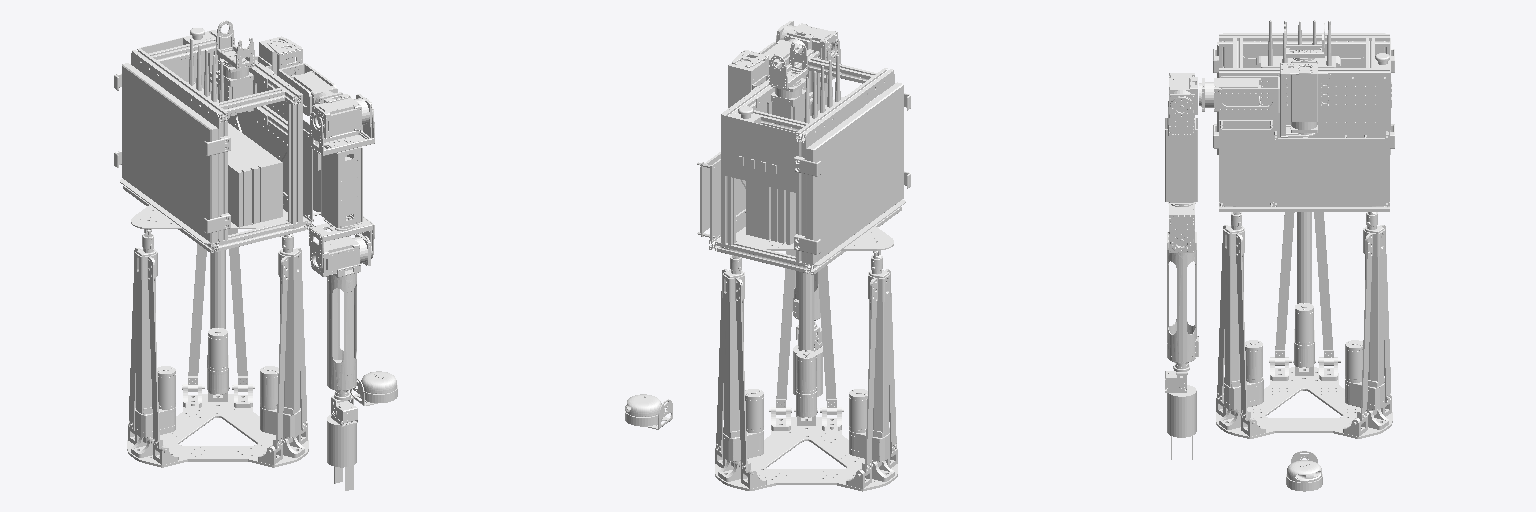
--- Facts derived from the render (not from the file) ---
The picture shows the robot from 3 angles, left to right: view 1: azimuth 30°, elevation 25°; view 2: azimuth 150°, elevation 25°; view 3: azimuth 270°, elevation 25°; orthographic projection.
Robot: hrvl_gbot — 26 links, 25 joints (12 revolute, 4 continuous, 2 prismatic, 7 fixed); root link base_footprint; default pose: all joints at 0 but 2 set to mid-range because 0 is outside their limits (gripper_joint = 0.021, sub_gripper_joint = 0.021).
Links seen in each view (by area): view 1: torso_link_y, waist_link, arm_lower_link_x, arm_shoulder_link_x, arm_mid_motor_link_z, arm_shoulder_link_y, tool_link, rotlidar_link, arm_shoulder_link_z, neck_link_z, wrist_pitch_link; view 2: torso_link_y, waist_link, rotlidar_link, arm_mid_motor_link_z, arm_shoulder_link_y, neck_link_z; view 3: torso_link_y, waist_link, arm_mid_motor_link_z, arm_shoulder_link_x, arm_lower_link_x, tool_link, rotlidar_link, arm_shoulder_link_z, arm_shoulder_link_y, neck_link_z.
Link boxes in pixels (<box>): torso_link_y: <box>114,28,320,252</box>; waist_link: <box>127,205,308,467</box>; arm_lower_link_x: <box>311,233,372,391</box>; arm_shoulder_link_x: <box>309,106,374,230</box>; arm_mid_motor_link_z: <box>267,37,342,115</box>; arm_shoulder_link_y: <box>312,94,372,138</box>; tool_link: <box>327,415,356,467</box>; rotlidar_link: <box>350,371,397,405</box>; arm_shoulder_link_z: <box>309,216,374,270</box>; neck_link_z: <box>216,20,254,68</box>; wrist_pitch_link: <box>331,401,357,426</box>; torso_link_y: <box>697,49,910,274</box>; waist_link: <box>715,226,897,491</box>; rotlidar_link: <box>625,394,672,429</box>; arm_mid_motor_link_z: <box>732,35,809,75</box>; arm_shoulder_link_y: <box>776,21,837,60</box>; neck_link_z: <box>769,42,807,88</box>; torso_link_y: <box>1213,20,1394,211</box>; waist_link: <box>1216,206,1392,438</box>; arm_mid_motor_link_z: <box>1199,63,1315,137</box>; arm_shoulder_link_x: <box>1165,98,1197,206</box>; arm_lower_link_x: <box>1167,223,1198,363</box>; tool_link: <box>1167,385,1196,437</box>; rotlidar_link: <box>1286,451,1322,491</box>; arm_shoulder_link_z: <box>1169,204,1194,252</box>; arm_shoulder_link_y: <box>1169,73,1197,117</box>; neck_link_z: <box>1284,23,1324,57</box>.
Bounding box of the posed robot: 0.6024 × 0.4713 × 0.9286 m (x, y, z).
Meshes: 14 distinct files referenced, 11 mesh visuals loaded (11 binary STL); not drawn: 6 (reference not matched to a file when rendering).

robot.urdf — hrvl_gbot:
<?xml version="1.0" ?>
<!-- =================================================================================== -->
<!-- |    This document was autogenerated by xacro from hrvl_gbot_gazebo.urdf.xacro    | -->
<!-- |    EDITING THIS FILE BY HAND IS NOT RECOMMENDED                                 | -->
<!-- =================================================================================== -->
<robot name="hrvl_gbot" xmlns:xacro="http://ros.org/wiki/xacro">
  <!-- base_footprint -->
  <gazebo reference="base_footprint">
  </gazebo>
  <gazebo reference="base_footprint">
    <material>Gazebo/white</material>
  </gazebo>
  <gazebo reference="base_link">
    <material>Gazebo/white</material>
  </gazebo>
  <gazebo reference="wheel1">
    <material>Gazebo/white</material>
  </gazebo>
  <gazebo reference="wheel2">
    <material>Gazebo/white</material>
  </gazebo>
  <gazebo reference="wheel3">
    <material>Gazebo/white</material>
  </gazebo>
  <gazebo reference="wheel4">
    <material>Gazebo/white</material>
  </gazebo>
  <gazebo reference="rotlidar_link">
    <material>Gazebo/white</material>
  </gazebo>
  <gazebo reference="waist_link">
    <material>Gazebo/white</material>
  </gazebo>
  <gazebo reference="torso_link_x">
    <material>Gazebo/white</material>
  </gazebo>
  <gazebo reference="torso_link_y">
    <material>Gazebo/white</material>
  </gazebo>
  <gazebo reference="neck_link_z">
    <material>Gazebo/white</material>
  </gazebo>
  <gazebo reference="neck_link_y">
    <material>Gazebo/white</material>
  </gazebo>
  <gazebo reference="lidar_link">
    <material>Gazebo/white</material>
  </gazebo>
  <gazebo reference="kinect_link">
    <material>Gazebo/white</material>
  </gazebo>
  <gazebo reference="zed_link">
    <material>Gazebo/white</material>
  </gazebo>
  <gazebo reference="arm_mid_motor_link">
    <material>Gazebo/white</material>
  </gazebo>
  <gazebo reference="arm_mid_motor_link_z">
    <material>Gazebo/white</material>
  </gazebo>
  <gazebo reference="arm_shoulder_link_y">
    <material>Gazebo/white</material>
  </gazebo>
  <gazebo reference="arm_shoulder_link_x">
    <material>Gazebo/white</material>
  </gazebo>
  <gazebo reference="arm_shoulder_link_z">
    <material>Gazebo/white</material>
  </gazebo>
  <gazebo reference="arm_lower_link_x">
    <material>Gazebo/white</material>
  </gazebo>
  <gazebo reference="wrist_roll_link">
    <material>Gazebo/white</material>
  </gazebo>
  <gazebo reference="wrist_pitch_link">
    <material>Gazebo/white</material>
  </gazebo>
  <gazebo reference="tool_link">
    <material>Gazebo/white</material>
  </gazebo>
  <gazebo reference="left_gripper_link">
    <material>Gazebo/white</material>
  </gazebo>
  <gazebo reference="right_gripper_link">
    <material>Gazebo/white</material>
  </gazebo>
  <!-- ros_control plugin -->
  <gazebo>
    <plugin filename="libgazebo_ros_control.so" name="gazebo_ros_control">
      <robotNamespace>open_manipulator</robotNamespace>
      <controlPeriod>0.01</controlPeriod>
      <robotSimType>gazebo_ros_control/DefaultRobotHWSim</robotSimType>
    </plugin>
  </gazebo>
  <material name="whiteT">
    <color rgba="0.8 0.8 0.8 0.5"/>
  </material>
  <material name="steel">
    <color rgba="0.75 0.75 0.75 0.30"/>
  </material>
  <material name="black">
    <color rgba="0.0 0.0 0.0 1.0"/>
  </material>
  <material name="white">
    <color rgba="1.0 1.0 1.0 1.0"/>
  </material>
  <material name="red">
    <color rgba="0.8 0.0 0.0 1.0"/>
  </material>
  <material name="blue">
    <color rgba="0.0 0.0 0.8 1.0"/>
  </material>
  <material name="green">
    <color rgba="0.0 0.8 0.0 1.0"/>
  </material>
  <material name="grey">
    <color rgba="0.5 0.5 0.5 1.0"/>
  </material>
  <material name="orange">
    <color rgba="1.0 0.423529411765 0.0392156862745 1.0"/>
  </material>
  <material name="brown">
    <color rgba="0.870588235294 0.811764705882 0.764705882353 1.0"/>
  </material>
  <link name="base_footprint">
    </link>
  <link name="base_link">
    <visual>
      <geometry>
        <mesh filename="package://hrvl_gbot_description/stl/MobilePlatform_BodyOnly.STL" scale="0.001 0.001 0.001"/>
      </geometry>
      <material name="white"/>
      <origin rpy="0 -1.570796 3.141592" xyz="-0.2 0 0"/>
    </visual>
    <inertial>
      <mass value="15.0"/>
      <inertia ixx="0.03" ixy="0.0" ixz="0.0" iyy="0.03" iyz="0.0" izz="0.03"/>
    </inertial>
  </link>
  <joint name="base_link_joint" type="fixed">
    <axis xyz="0 0 1"/>
    <origin rpy="0 0 0" xyz="0 0 0.1"/>
    <parent link="base_footprint"/>
    <child link="base_link"/>
  </joint>
  <link name="wheel1">
    <visual>
      <geometry>
        <mesh filename="package://hrvl_gbot_description/stl/MPO-500-WHEEL.dae" scale="-0.0006 0.0005 0.0006"/>
      </geometry>
      <material name="white"/>
      <origin rpy="0 0 0" xyz="0 0 0"/>
    </visual>
    <collision>
      <geometry>
        <cylinder length="0.055" radius="0.08"/>
      </geometry>
      <origin rpy="1.570796 0 0" xyz="0 0 0"/>
    </collision>
    <inertial>
      <mass value="0.2"/>
      <inertia ixx="0.03" ixy="0.0" ixz="0.0" iyy="0.03" iyz="0.0" izz="0.03"/>
    </inertial>
  </link>
  <joint name="wheel1_joint" type="continuous">
    <axis xyz="0 1 0"/>
    <limit effort="1000.0" velocity="1.0"/>
    <origin rpy="0 0 0" xyz="0.20 0.225 -0.02"/>
    <parent link="base_link"/>
    <child link="wheel1"/>
  </joint>
  <link name="wheel2">
    <visual>
      <geometry>
        <mesh filename="package://hrvl_gbot_description/stl/MPO-500-WHEEL.dae" scale="0.0006 0.0005 0.0006"/>
      </geometry>
      <material name="white"/>
      <origin rpy="0 0 0" xyz="0 0 0"/>
    </visual>
    <collision>
      <geometry>
        <cylinder length="0.055" radius="0.08"/>
      </geometry>
      <origin rpy="1.570796 0 0" xyz="0 0 0"/>
    </collision>
    <inertial>
      <mass value="0.2"/>
      <inertia ixx="0.03" ixy="0.0" ixz="0.0" iyy="0.03" iyz="0.0" izz="0.03"/>
    </inertial>
  </link>
  <joint name="wheel2_joint" type="continuous">
    <axis xyz="0 1 0"/>
    <limit effort="1000.0" velocity="1.0"/>
    <origin rpy="0 0 0" xyz="0.20 -0.225 -0.02"/>
    <parent link="base_link"/>
    <child link="wheel2"/>
  </joint>
  <link name="wheel3">
    <visual>
      <geometry>
        <mesh filename="package://hrvl_gbot_description/stl/MPO-500-WHEEL.dae" scale="0.0006 0.0005 0.0006"/>
      </geometry>
      <material name="white"/>
      <origin rpy="0 0 0" xyz="0 0 0"/>
    </visual>
    <collision>
      <geometry>
        <cylinder length="0.055" radius="0.08"/>
      </geometry>
      <origin rpy="1.570796 0 0" xyz="0 0 0"/>
    </collision>
    <inertial>
      <mass value="0.2"/>
      <inertia ixx="0.03" ixy="0.0" ixz="0.0" iyy="0.03" iyz="0.0" izz="0.03"/>
    </inertial>
  </link>
  <joint name="wheel3_joint" type="continuous">
    <axis xyz="0 1 0"/>
    <limit effort="1000.0" velocity="1.0"/>
    <origin rpy="0 0 0" xyz="-0.20 0.225 -0.02"/>
    <parent link="base_link"/>
    <child link="wheel3"/>
  </joint>
  <link name="wheel4">
    <visual>
      <geometry>
        <!--<cylinder length="0.055" radius=".075" /> -->
        <mesh filename="package://hrvl_gbot_description/stl/MPO-500-WHEEL.dae" scale="-0.0006 0.0005 0.0006"/>
      </geometry>
      <material name="white"/>
      <origin rpy="0 0 0" xyz="0 0 0"/>
    </visual>
    <collision>
      <geometry>
        <cylinder length="0.055" radius="0.08"/>
      </geometry>
      <origin rpy="1.570796 0 0" xyz="0 0 0"/>
    </collision>
    <inertial>
      <mass value="0.2"/>
      <inertia ixx="0.03" ixy="0.0" ixz="0.0" iyy="0.03" iyz="0.0" izz="0.03"/>
    </inertial>
  </link>
  <joint name="wheel4_joint" type="continuous">
    <axis xyz="0 1 0"/>
    <limit effort="1000.0" velocity="1.0"/>
    <origin rpy="0 0 0" xyz="-0.20 -0.225 -0.02"/>
    <parent link="base_link"/>
    <child link="wheel4"/>
  </joint>
  <!-- Sensors -->
  <link name="rotlidar_link">
    <visual>
      <geometry>
        <!--<cylinder length="0.055" radius=".075" /> -->
        <mesh filename="package://hrvl_gbot_description/stl/RotatingLidar3_front_only.STL" scale="0.001 0.001 0.001"/>
      </geometry>
      <material name="white"/>
      <origin rpy="0 0 0" xyz="-0.0513 -0.0278 -0.033"/>
    </visual>
    <collision>
      <geometry>
        <cylinder length="0.14" radius="0.05"/>
      </geometry>
      <origin rpy="0 1.570796 0" xyz="-0.02 0 0"/>
    </collision>
    <inertial>
      <mass value="0.1"/>
      <inertia ixx="0.03" ixy="0.0" ixz="0.0" iyy="0.03" iyz="0.0" izz="0.03"/>
    </inertial>
  </link>
  <joint name="rotlidar_joint" type="revolute">
    <axis xyz="1 0 0"/>
    <limit effort="1000.0" lower="-3.141592" upper="3.141592" velocity="1.0"/>
    <origin rpy="0 0 0" xyz="0.3133 0 0.26475"/>
    <parent link="base_link"/>
    <child link="rotlidar_link"/>
  </joint>
  <link name="waist_link">
    <visual>
      <geometry>
        <mesh filename="package://hrvl_gbot_description/stl/Waist_Final_Simple.STL" scale="0.001 0.001 0.001"/>
      </geometry>
      <material name="white"/>
      <origin rpy="1.570796 0 1.570796 " xyz="-0.205 0 -0.136"/>
    </visual>
    <collision>
      <geometry>
        <box size="0.4 0.35 0.6"/>
      </geometry>
      <origin rpy="0 0 0" xyz="-0.1 0 0.10"/>
    </collision>
    <inertial>
      <mass value="2.0"/>
      <inertia ixx="0.03" ixy="0.0" ixz="0.0" iyy="0.03" iyz="0.0" izz="0.03"/>
    </inertial>
  </link>
  <joint name="waist_link_joint" type="fixed">
    <axis xyz="0 0 1"/>
    <origin rpy="0 0 0" xyz="-0.016 0 0.365"/>
    <parent link="base_link"/>
    <child link="waist_link"/>
  </joint>
  <link name="torso_link_x">
    <inertial>
      <mass value="0.1"/>
      <inertia ixx="0.03" ixy="0.0" ixz="0.0" iyy="0.03" iyz="0.0" izz="0.03"/>
    </inertial>
  </link>
  <!-- Torso control side -->
  <joint name="torso_joint_x" type="revolute">
    <axis xyz="1 0 0"/>
    <origin rpy="0 0 0" xyz="-0.016 0 0.730"/>
    <limit effort="1000.0" lower="-0.33" upper="0.33" velocity="1.0"/>
    <parent link="base_link"/>
    <child link="torso_link_x"/>
  </joint>
  <transmission name="tran12">
    <type>transmission_interface/SimpleTransmission</type>
    <joint name="torso_joint_x">
      <hardwareInterface>hardware_interface/PositionJointInterface</hardwareInterface>
    </joint>
    <actuator name="motor12">
      <hardwareInterface>hardware_interface/PositionJointInterface</hardwareInterface>
      <mechanicalReduction>1</mechanicalReduction>
    </actuator>
  </transmission>
  <link name="torso_link_y">
    <visual>
      <geometry>
        <mesh filename="package://hrvl_gbot_description/stl/BodyBox.STL" scale="0.001 0.001 0.001"/>
      </geometry>
      <material name="white"/>
      <!--<origin rpy="0 0 0" xyz="0 0 0.5125" />-->
      <origin rpy="1.570796 0 1.570796" xyz="0 0 0"/>
    </visual>
    <collision>
      <geometry>
        <mesh filename="package://onine_description/stl/BoundingBox_BodyBox.STL" scale="0.001 0.001 0.001"/>
      </geometry>
      <origin rpy="0 0 0" xyz="-0.173 -0.187 0"/>
    </collision>
    <inertial>
      <mass value="2.0"/>
      <inertia ixx="0.03" ixy="0.0" ixz="0.0" iyy="0.03" iyz="0.0" izz="0.03"/>
    </inertial>
  </link>
  <joint name="torso_joint_y" type="revolute">
    <axis xyz="0 1 0"/>
    <origin rpy="0 0 0" xyz="0 0 0"/>
    <limit effort="1000.0" lower="-0.25" upper="0.3" velocity="1.0"/>
    <parent link="torso_link_x"/>
    <child link="torso_link_y"/>
  </joint>
  <transmission name="tran13">
    <type>transmission_interface/SimpleTransmission</type>
    <joint name="torso_joint_y">
      <hardwareInterface>hardware_interface/PositionJointInterface</hardwareInterface>
    </joint>
    <actuator name="motor13">
      <hardwareInterface>hardware_interface/PositionJointInterface</hardwareInterface>
      <mechanicalReduction>1</mechanicalReduction>
    </actuator>
  </transmission>
  <!-- Pan-Tilt side -->
  <link name="neck_link_z">
    <visual>
      <geometry>
        <!-- <box size="0.054 0.054 0.138" /> -->
        <mesh filename="package://hrvl_gbot_description/stl/FRP42-H210_with_axis.STL" scale="0.001 0.001 0.001"/>
      </geometry>
      <material name="white"/>
      <origin rpy="1.570796 0 1.570796" xyz="-0.021 -0.0415 -0.052"/>
      <!--<origin rpy="1.570796 0 1.570796" xyz="0 0 0" /> -->
    </visual>
    <collision>
      <geometry>
        <box size="0.042 0.095 0.068"/>
      </geometry>
      <origin rpy="0 0 0" xyz="0 0 -0.018"/>
    </collision>
    <inertial>
      <mass value="0.1"/>
      <inertia ixx="0.03" ixy="0.0" ixz="0.0" iyy="0.03" iyz="0.0" izz="0.03"/>
    </inertial>
  </link>
  <joint name="neck_joint_z" type="revolute">
    <axis xyz="0 0 1"/>
    <origin rpy="0 0 0" xyz="0 0 0.370"/>
    <!-- +- 110 degrees -->
    <limit effort="1000.0" lower="-1.91" upper="1.91" velocity="1.0"/>
    <parent link="torso_link_y"/>
    <child link="neck_link_z"/>
  </joint>
  <transmission name="tran2">
    <type>transmission_interface/SimpleTransmission</type>
    <joint name="neck_joint_z">
      <hardwareInterface>hardware_interface/PositionJointInterface</hardwareInterface>
    </joint>
    <actuator name="motor2">
      <hardwareInterface>hardware_interface/PositionJointInterface</hardwareInterface>
      <mechanicalReduction>1</mechanicalReduction>
    </actuator>
  </transmission>
  <link name="neck_link_y">
    <visual>
      <geometry>
        <mesh filename="package://hrvl_gbot_description/stl/Head_PanTiltModule_Fixed.STL" scale="0.001 0.001 0.001"/>
      </geometry>
      <material name="white"/>
      <origin rpy="1.570796 0 1.570796" xyz="0 0 0"/>
    </visual>
    <collision>
      <geometry>
        <mesh filename="package://onine_description/stl/BB_Head_PanTiltModule_Fixed.STL" scale="0.001 0.001 0.001"/>
      </geometry>
      <origin rpy="3.141592 0 3.141592" xyz="0.1335 -0.130 0.223"/>
    </collision>
    <inertial>
      <mass value="0.1"/>
      <inertia ixx="0.03" ixy="0.0" ixz="0.0" iyy="0.03" iyz="0.0" izz="0.03"/>
    </inertial>
  </link>
  <joint name="neck_joint_y" type="revolute">
    <axis xyz="0 1 0"/>
    <origin rpy="0 0 0" xyz="0 0 0"/>
    <!-- -30 ~ 70 degrees -->
    <limit effort="1000.0" lower="-0.523" upper="1.22" velocity="1.0"/>
    <parent link="neck_link_z"/>
    <child link="neck_link_y"/>
  </joint>
  <transmission name="tran1">
    <type>transmission_interface/SimpleTransmission</type>
    <joint name="neck_joint_y">
      <hardwareInterface>hardware_interface/PositionJointInterface</hardwareInterface>
    </joint>
    <actuator name="motor1">
      <hardwareInterface>hardware_interface/PositionJointInterface</hardwareInterface>
      <mechanicalReduction>1</mechanicalReduction>
    </actuator>
  </transmission>
  <link name="lidar_link">
    <inertial>
      <mass value="0.001"/>
      <inertia ixx="0.03" ixy="0.0" ixz="0.0" iyy="0.03" iyz="0.0" izz="0.03"/>
    </inertial>
  </link>
  <joint name="lidar_joint" type="fixed">
    <axis xyz="0 0 1"/>
    <origin rpy="-1.570796 0 -1.570796" xyz="0 0 0.07"/>
    <parent link="neck_link_y"/>
    <child link="lidar_link"/>
  </joint>
  <link name="kinect_link">
    <inertial>
      <mass value="0.001"/>
      <inertia ixx="0.03" ixy="0.0" ixz="0.0" iyy="0.03" iyz="0.0" izz="0.03"/>
    </inertial>
  </link>
  <joint name="kinect_joint" type="fixed">
    <axis xyz="1 0 0"/>
    <!--origin rpy="0 0 0" xyz="0.095 0 0.155" /-->
    <origin rpy="-1.570796 0 -1.570796" xyz="0.095 0 0.155"/>
    <parent link="neck_link_y"/>
    <child link="kinect_link"/>
  </joint>
  <link name="zed_link">
    <inertial>
      <mass value="0.001"/>
      <inertia ixx="0.03" ixy="0.0" ixz="0.0" iyy="0.03" iyz="0.0" izz="0.03"/>
    </inertial>
  </link>
  <joint name="zed_joint" type="fixed">
    <axis xyz="1 0 0"/>
    <!--origin rpy="0 0 0" xyz="0.1 0 0.200" /-->
    <origin rpy="-1.570796 0 -1.570796" xyz="0.1 0 0.200"/>
    <parent link="neck_link_y"/>
    <child link="zed_link"/>
  </joint>
  <!-- ARM-specific links & joints -->
  <link name="arm_mid_motor_link">
    <inertial>
      <mass value="0.00001"/>
      <inertia ixx="0.0003" ixy="0.000" ixz="0.0" iyy="0.0003" iyz="0.0" izz="0.0003"/>
    </inertial>
  </link>
  <joint name="arm_mid_motor_joint" type="fixed">
    <axis xyz="0 0 1"/>
    <origin rpy="0 0 0" xyz="0.1 0 0.273"/>
    <parent link="torso_link_y"/>
    <child link="arm_mid_motor_link"/>
  </joint>
  <link name="arm_mid_motor_link_z">
    <visual>
      <geometry>
        <!-- <box size="0.054 0.210 0.054" /> -->
        <mesh filename="package://hrvl_gbot_description/stl/center_rotation_module_fixed.STL" scale="0.001 0.001 0.001"/>
      </geometry>
      <material name="white"/>
      <!--<origin rpy="0 0 0" xyz="0 0 0.5125" />-->
      <origin rpy="-1.570796 0 -1.570796" xyz="-0.027 0.21752 0.027"/>
    </visual>
    <collision>
      <geometry>
        <mesh filename="package://onine_description/stl/BB_center_rotation_module_fixed.STL" scale="0.001 0.001 0.001"/>
      </geometry>
      <origin rpy="0 3.141592 3.141592" xyz="-0.037 0.2174 0.09"/>
    </collision>
    <inertial>
      <mass value="0.1"/>
      <inertia ixx="0.03" ixy="0.0" ixz="0.0" iyy="0.03" iyz="0.0" izz="0.03"/>
    </inertial>
  </link>
  <joint name="arm_mid_motor_joint_z" type="revolute">
    <axis xyz="0 0 1"/>
    <origin rpy="3.141592 0 0" xyz="0 0 0"/>
    <limit effort="1000.0" lower="-3.141592" upper="0" velocity="1.0"/>
    <parent link="arm_mid_motor_link"/>
    <child link="arm_mid_motor_link_z"/>
  </joint>
  <transmission name="tran3">
    <type>transmission_interface/SimpleTransmission</type>
    <joint name="arm_mid_motor_joint_z">
      <hardwareInterface>hardware_interface/PositionJointInterface</hardwareInterface>
    </joint>
    <actuator name="motor3">
      <hardwareInterface>hardware_interface/PositionJointInterface</hardwareInterface>
      <mechanicalReduction>1</mechanicalReduction>
    </actuator>
  </transmission>
  <link name="arm_shoulder_link_y">
    <visual>
      <geometry>
        <mesh filename="package://hrvl_gbot_description/stl/ShoulderYChild.STL" scale="0.001 0.001 0.001"/>
      </geometry>
      <material name="white"/>
      <origin rpy="-1.570796 0 0" xyz="-0.054 0 0.054"/>
    </visual>
    <collision>
      <geometry>
        <box size="0.114 0.060 0.060"/>
      </geometry>
      <origin rpy="0 0 0" xyz="0 0 0"/>
    </collision>
    <inertial>
      <mass value="0.1"/>
      <inertia ixx="0.03" ixy="0.0" ixz="0.0" iyy="0.03" iyz="0.0" izz="0.03"/>
    </inertial>
  </link>
  <joint name="arm_shoulder_joint_y" type="revolute">
    <axis xyz="0 1 0"/>
    <origin rpy="0 0 0" xyz="0 0.250 0"/>
    <limit effort="1000.0" lower="-3.141592" upper="3.141592" velocity="1.0"/>
    <parent link="arm_mid_motor_link_z"/>
    <child link="arm_shoulder_link_y"/>
  </joint>
  <transmission name="tran4">
    <type>transmission_interface/SimpleTransmission</type>
    <joint name="arm_shoulder_joint_y">
      <hardwareInterface>hardware_interface/PositionJointInterface</hardwareInterface>
    </joint>
    <actuator name="motor4">
      <hardwareInterface>hardware_interface/PositionJointInterface</hardwareInterface>
      <mechanicalReduction>1</mechanicalReduction>
    </actuator>
  </transmission>
  <link name="arm_shoulder_link_x">
    <visual>
      <geometry>
        <mesh filename="package://hrvl_gbot_description/stl/ArmUpperZ.STL" scale="0.001 0.001 0.001"/>
      </geometry>
      <material name="white"/>
      <!--<origin rpy="0 0 0" xyz="0 0 0.5125" />-->
      <origin rpy="3.141592 0 0" xyz="-0.06 0.027 0.0155"/>
    </visual>
    <collision>
      <geometry>
        <mesh filename="package://onine_description/stl/BB_ArmShoulderLinkX.STL" scale="0.001 0.001 0.001"/>
      </geometry>
      <origin rpy="-1.570796 0 0" xyz="-0.06 -0.0335 0.0235"/>
    </collision>
    <inertial>
      <mass value="0.1"/>
      <inertia ixx="0.03" ixy="0.0" ixz="0.0" iyy="0.03" iyz="0.0" izz="0.03"/>
    </inertial>
  </link>
  <joint name="arm_shoulder_joint_x" type="revolute">
    <axis xyz="1 0 0"/>
    <origin rpy="3.141592 0 0" xyz="0 0 0"/>
    <limit effort="1000.0" lower="-3.141592" upper="0.52" velocity="1.0"/>
    <parent link="arm_shoulder_link_y"/>
    <child link="arm_shoulder_link_x"/>
  </joint>
  <transmission name="tran5">
    <type>transmission_interface/SimpleTransmission</type>
    <joint name="arm_shoulder_joint_x">
      <hardwareInterface>hardware_interface/PositionJointInterface</hardwareInterface>
    </joint>
    <actuator name="motor5">
      <hardwareInterface>hardware_interface/PositionJointInterface</hardwareInterface>
      <mechanicalReduction>1</mechanicalReduction>
    </actuator>
  </transmission>
  <link name="arm_shoulder_link_z">
    <visual>
      <geometry>
        <!-- <cylinder length="0.050" radius=".030" /> -->
        <mesh filename="package://hrvl_gbot_description/stl/ArmElbow.STL" scale="0.001 0.001 0.001"/>
      </geometry>
      <material name="white"/>
      <origin rpy="1.570796 0 1.570796" xyz="-0.06 -0.027 -0.0235"/>
    </visual>
    <collision>
      <geometry>
        <box size="0.13 0.06 0.09"/>
      </geometry>
      <origin rpy="0 0 0" xyz="0 0 0.02"/>
    </collision>
    <inertial>
      <mass value="0.1"/>
      <inertia ixx="0.03" ixy="0.0" ixz="0.0" iyy="0.03" iyz="0.0" izz="0.03"/>
    </inertial>
  </link>
  <joint name="arm_shoulder_joint_z" type="revolute">
    <axis xyz="0 0 -1"/>
    <!-- upper 120 degree, lower -90 degree -->
    <limit effort="1000.0" lower="-1.570796" upper="2.094394" velocity="1.0"/>
    <origin rpy="0 0 0" xyz="0 0 -0.305"/>
    <parent link="arm_shoulder_link_x"/>
    <child link="arm_shoulder_link_z"/>
  </joint>
  <transmission name="tran6">
    <type>transmission_interface/SimpleTransmission</type>
    <joint name="arm_shoulder_joint_z">
      <hardwareInterface>hardware_interface/PositionJointInterface</hardwareInterface>
    </joint>
    <actuator name="motor6">
      <hardwareInterface>hardware_interface/PositionJointInterface</hardwareInterface>
      <mechanicalReduction>1</mechanicalReduction>
    </actuator>
  </transmission>
  <link name="arm_lower_link_x">
    <visual>
      <geometry>
        <mesh filename="package://hrvl_gbot_description/stl/ArmLower.STL" scale="0.001 0.001 0.001"/>
      </geometry>
      <material name="white"/>
      <origin rpy="3.141592 0 -1.570796" xyz="0.051 0.0155 0.025"/>
    </visual>
    <collision>
      <geometry>
        <cylinder length="0.300" radius=".035"/>
      </geometry>
      <origin rpy="0 0 0" xyz="0 0 -0.15"/>
    </collision>
    <inertial>
      <mass value="0.1"/>
      <inertia ixx="0.03" ixy="0.0" ixz="0.0" iyy="0.03" iyz="0.0" izz="0.03"/>
    </inertial>
  </link>
  <joint name="arm_lower_joint_x" type="revolute">
    <axis xyz="1 0 0"/>
    <origin rpy="0 0 0" xyz="0 0 0"/>
    <!-- Human-like motion??? for this lower should be fixed as 0 -->
    <limit effort="1000.0" lower="0" upper="2.10" velocity="1.0"/>
    <parent link="arm_shoulder_link_z"/>
    <child link="arm_lower_link_x"/>
  </joint>
  <transmission name="tran7">
    <type>transmission_interface/SimpleTransmission</type>
    <joint name="arm_lower_joint_x">
      <hardwareInterface>hardware_interface/PositionJointInterface</hardwareInterface>
    </joint>
    <actuator name="motor7">
      <hardwareInterface>hardware_interface/PositionJointInterface</hardwareInterface>
      <mechanicalReduction>1</mechanicalReduction>
    </actuator>
  </transmission>
  <link name="wrist_roll_link">
    <visual>
      <geometry>
        <mesh filename="package://hrvl_gbot_description/stl/wrist_roll.STL" scale="0.001 0.001 0.001"/>
      </geometry>
      <material name="white"/>
      <origin rpy="3.141592 0 0" xyz="-0.02 0.017 0.021"/>
    </visual>
    <collision>
      <geometry>
        <cylinder length="0.05" radius=".025"/>
      </geometry>
      <origin rpy="0 0 0" xyz="0 0 -0.025"/>
    </collision>
    <inertial>
      <mass value="0.1"/>
      <inertia ixx="0.03" ixy="0.0" ixz="0.0" iyy="0.03" iyz="0.0" izz="0.03"/>
    </inertial>
  </link>
  <joint name="wrist_roll_joint" type="revolute">
    <axis xyz="0 0 -1"/>
    <!-- plus-minus 120 degree -->
    <limit effort="1000.0" lower="-2.1" upper="2.1" velocity="1.0"/>
    <origin rpy="0 0 0" xyz="0 0 -0.300"/>
    <parent link="arm_lower_link_x"/>
    <child link="wrist_roll_link"/>
  </joint>
  <transmission name="tran8">
    <type>transmission_interface/SimpleTransmission</type>
    <joint name="wrist_roll_joint">
      <hardwareInterface>hardware_interface/PositionJointInterface</hardwareInterface>
    </joint>
    <actuator name="motor8">
      <hardwareInterface>hardware_interface/PositionJointInterface</hardwareInterface>
      <mechanicalReduction>1</mechanicalReduction>
    </actuator>
  </transmission>
  <link name="wrist_pitch_link">
    <visual>
      <geometry>
        <mesh filename="package://hrvl_gbot_description/stl/wrist_end.STL" scale="0.001 0.001 0.001"/>
      </geometry>
      <material name="white"/>
      <origin rpy="3.141592 1.570796 3.141592" xyz="-0.02 -0.03525 0.01425"/>
    </visual>
    <collision>
      <geometry>
        <cylinder length="0.04" radius=".04"/>
      </geometry>
      <origin rpy="0 0 0" xyz="0 0 0"/>
    </collision>
    <inertial>
      <mass value="0.1"/>
      <inertia ixx="0.03" ixy="0.0" ixz="0.0" iyy="0.03" iyz="0.0" izz="0.03"/>
    </inertial>
  </link>
  <joint name="wrist_pitch_joint" type="revolute">
    <axis xyz="1 0 0"/>
    <limit effort="1000.0" lower="-0.46" upper="1.570796" velocity="1.0"/>
    <origin rpy="0 0 0" xyz="0 0 -0.040"/>
    <parent link="wrist_roll_link"/>
    <child link="wrist_pitch_link"/>
  </joint>
  <transmission name="tran9">
    <type>transmission_interface/SimpleTransmission</type>
    <joint name="wrist_pitch_joint">
      <hardwareInterface>hardware_interface/PositionJointInterface</hardwareInterface>
    </joint>
    <actuator name="motor9">
      <hardwareInterface>hardware_interface/PositionJointInterface</hardwareInterface>
      <mechanicalReduction>1</mechanicalReduction>
    </actuator>
  </transmission>
  <link name="tool_link">
    <visual>
      <geometry>
        <cylinder length="0.0925" radius=".03"/>
      </geometry>
      <material name="white"/>
      <origin rpy="0 1.570796 0" xyz="-0.04514 0 0"/>
    </visual>
    <visual>
      <geometry>
        <cylinder length="0.0925" radius=".03"/>
      </geometry>
      <origin rpy="0 1.570796 0" xyz="-0.04514 0 0"/>
    </visual>
    <inertial>
      <mass value="0.1"/>
      <inertia ixx="0.03" ixy="0.0" ixz="0.0" iyy="0.03" iyz="0.0" izz="0.03"/>
    </inertial>
  </link>
  <joint name="tool_link_joint" type="fixed">
    <axis xyz="1 0 0"/>
    <origin rpy="0 1.570996 0" xyz="0.00 0 -0.1125"/>
    <parent link="wrist_pitch_link"/>
    <child link="tool_link"/>
  </joint>
  <transmission name="tran9">
    <type>transmission_interface/SimpleTransmission</type>
    <joint name="tool_link_joint">
      <hardwareInterface>hardware_interface/PositionJointInterface</hardwareInterface>
    </joint>
    <actuator name="motor9">
      <hardwareInterface>hardware_interface/PositionJointInterface</hardwareInterface>
      <mechanicalReduction>1</mechanicalReduction>
    </actuator>
  </transmission>
  <link name="left_gripper_link">
    <visual>
      <geometry>
        <box size="0.02 0.002 0.055"/>
      </geometry>
      <material name="white"/>
      <origin rpy="0 1.570796 0" xyz="-0.0275 0 0"/>
    </visual>
    <collision>
      <geometry>
        <box size="0.02 0.002 0.055"/>
      </geometry>
      <origin rpy="0 1.570796 0" xyz="-0.0275 0 0"/>
    </collision>
    <inertial>
      <mass value="0.01"/>
      <inertia ixx="0.03" ixy="0.0" ixz="0.0" iyy="0.03" iyz="0.0" izz="0.03"/>
    </inertial>
  </link>
  <joint name="gripper_joint" type="prismatic">
    <axis xyz="0 1 0"/>
    <limit effort="1000.0" lower="0.002" upper="0.04" velocity="1.0"/>
    <parent link="tool_link"/>
    <origin rpy="0 0 0" xyz=".0576 0 0.005"/>
    <child link="left_gripper_link"/>
  </joint>
  <transmission name="tran10">
    <type>transmission_interface/SimpleTransmission</type>
    <joint name="gripper_joint">
      <hardwareInterface>hardware_interface/PositionJointInterface</hardwareInterface>
    </joint>
    <actuator name="motor10">
      <hardwareInterface>hardware_interface/PositionJointInterface</hardwareInterface>
      <mechanicalReduction>1</mechanicalReduction>
    </actuator>
  </transmission>
  <link name="right_gripper_link">
    <visual>
      <geometry>
        <box size="0.02 0.002 0.055"/>
      </geometry>
      <material name="white"/>
      <origin rpy="0 1.570796 0" xyz="-0.0275 0 0"/>
    </visual>
    <collision>
      <geometry>
        <box size="0.02 0.002 0.055"/>
      </geometry>
      <origin rpy="0 1.570796 0" xyz="-0.0275 0 0"/>
    </collision>
    <inertial>
      <mass value="0.1"/>
      <inertia ixx="0.03" ixy="0.0" ixz="0.0" iyy="0.03" iyz="0.0" izz="0.03"/>
    </inertial>
  </link>
  <joint name="sub_gripper_joint" type="prismatic">
    <axis xyz="0 -1 0"/>
    <mimic joint="gripper_joint"/>
    <limit effort="1000.0" lower="0.002" upper="0.04" velocity="1.0"/>
    <origin rpy="0 0 0" xyz="0.0576 0 0.005"/>
    <parent link="tool_link"/>
    <child link="right_gripper_link"/>
  </joint>
  <transmission name="tran11">
    <type>transmission_interface/SimpleTransmission</type>
    <joint name="sub_gripper_joint">
      <hardwareInterface>hardware_interface/PositionJointInterface</hardwareInterface>
    </joint>
    <actuator name="motor11">
      <hardwareInterface>hardware_interface/PositionJointInterface</hardwareInterface>
      <mechanicalReduction>1</mechanicalReduction>
    </actuator>
  </transmission>
</robot>
